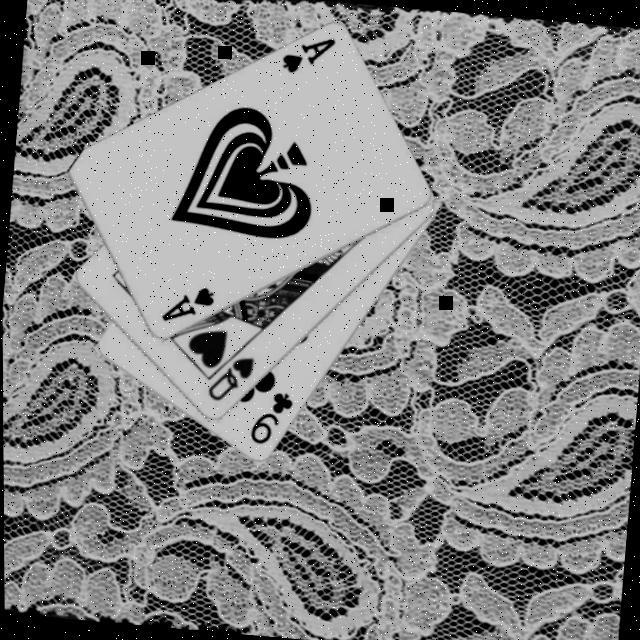9C: (247, 384, 298, 449)
AS: (279, 28, 341, 79), (158, 278, 220, 328)
QH: (204, 349, 258, 405)
